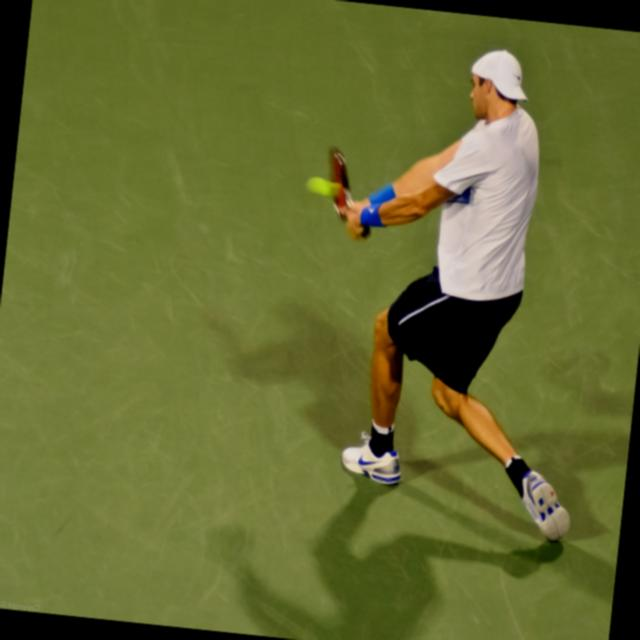Tennis Ball: (304, 174, 339, 198)
